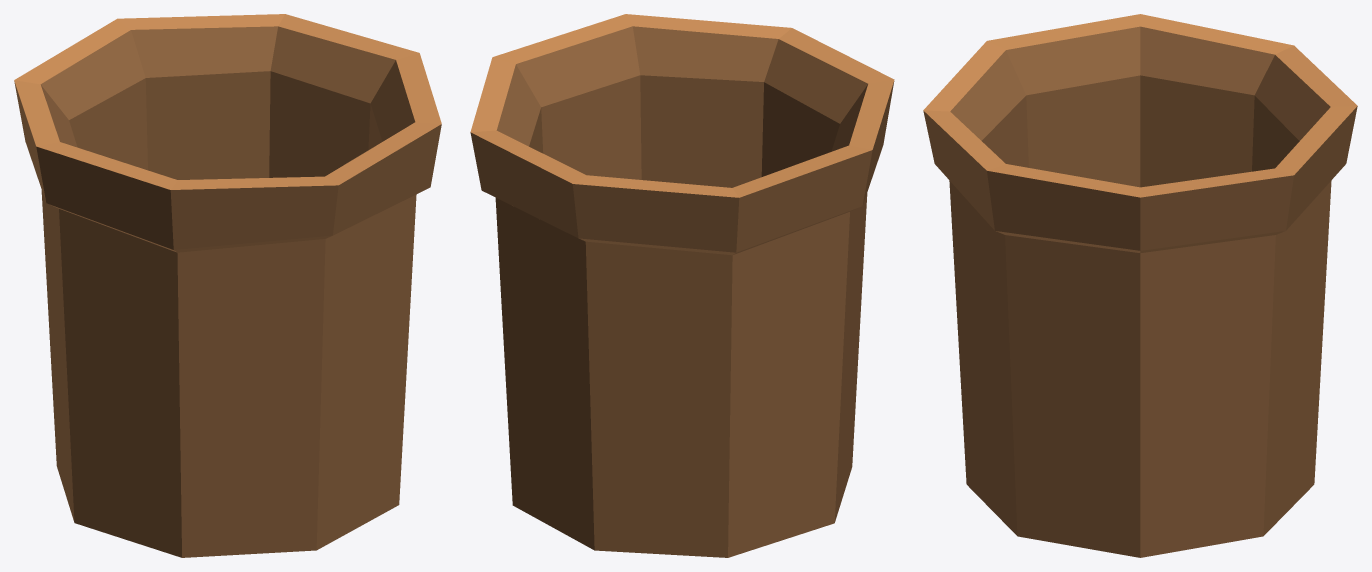
File: SM_Prop_Pot_04.fbx
3 views of the same model, side by side, from view 1: azimuth 30°, elevation 25°; view 2: azimuth 150°, elevation 25°; view 3: azimuth 270°, elevation 25° (orthographic).
Visible parts, largest first — view 1: SM_Prop_Pot_04; view 2: SM_Prop_Pot_04; view 3: SM_Prop_Pot_04.
Part boxes in pixels (bbox=[...]): SM_Prop_Pot_04: bbox=[14, 14, 441, 557]; SM_Prop_Pot_04: bbox=[470, 14, 894, 557]; SM_Prop_Pot_04: bbox=[923, 14, 1357, 557].
Bounding box in the file's own units: 49.81 × 47.9 × 49.81.
